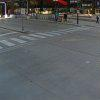Crosswalk: (2, 22, 75, 44)
